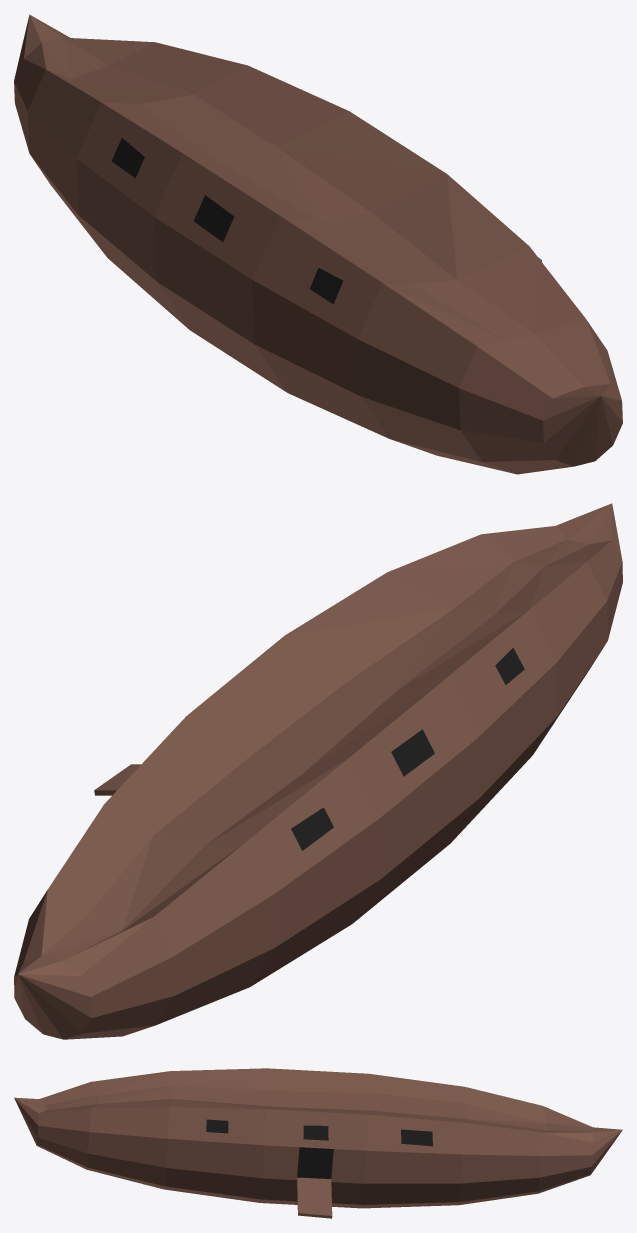
3 renders of one model, top to bottom at view 1: azimuth 30°, elevation 25°; view 2: azimuth 150°, elevation 25°; view 3: azimuth 270°, elevation 25°, orthographic. The views are drawn at different scales.
Parts seen in each view (by area): view 1: mesh_733030520; view 2: mesh_733030520; view 3: mesh_733030520.
Part boxes in pixels (left/top/right/bottom): mesh_733030520: left=14, top=14, right=622, bottom=474; mesh_733030520: left=14, top=503, right=622, bottom=1039; mesh_733030520: left=14, top=1068, right=622, bottom=1218.
Bounding box in the file's own units: 4.16 × 2.64 × 12.98.
